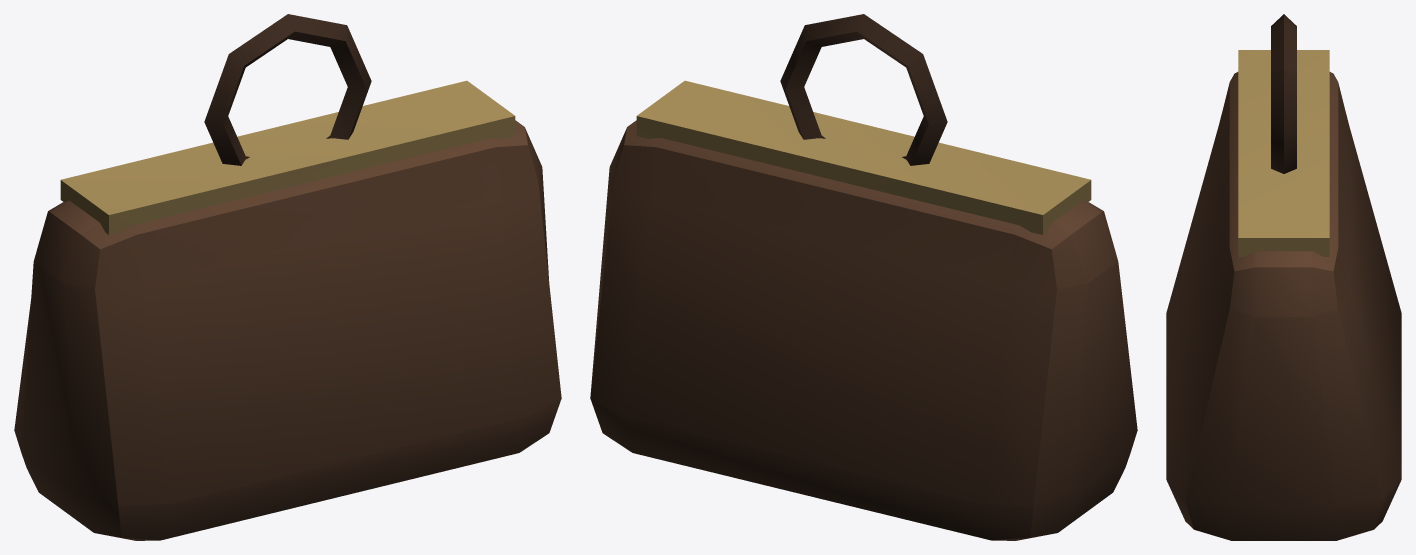
Rendered from ph_int_surgery_bag.glb.
3 views of the same model, side by side, from view 1: azimuth 30°, elevation 25°; view 2: azimuth 150°, elevation 25°; view 3: azimuth 270°, elevation 25° (orthographic). The views are drawn at different scales.
Parts seen in each view (by area): view 1: ph_int_surgery_bag; view 2: ph_int_surgery_bag; view 3: ph_int_surgery_bag.
Part boxes in pixels (box(x1,y1,x2,y2)): ph_int_surgery_bag: box(14, 14, 561, 540); ph_int_surgery_bag: box(590, 14, 1137, 540); ph_int_surgery_bag: box(1166, 14, 1401, 540).
Bounding box in the file's own units: 0.4 × 0.37 × 0.18.
